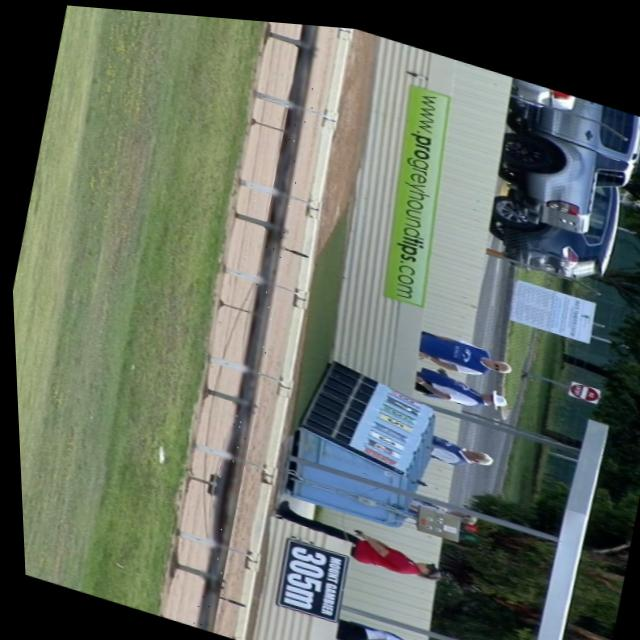rail: (189, 19, 317, 628)
